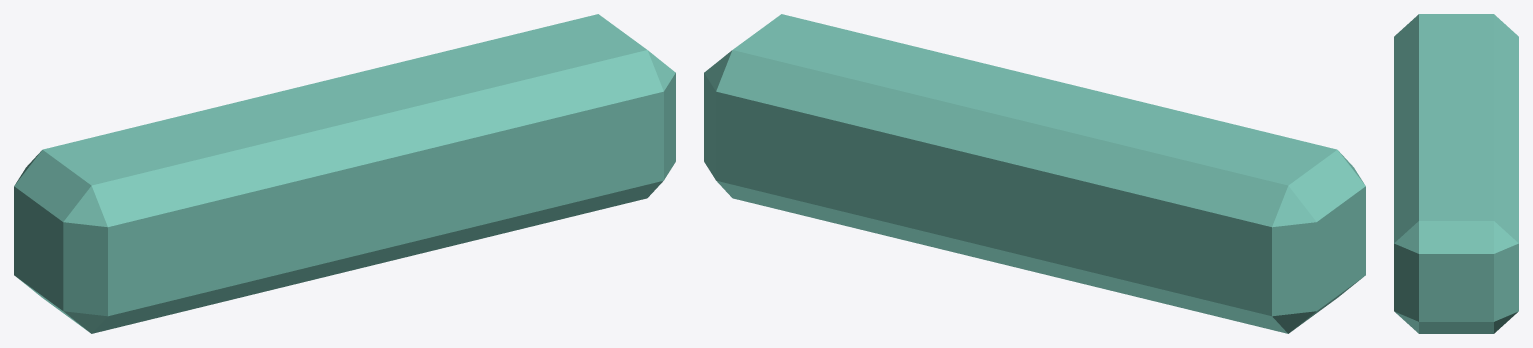
File: Paddle.fbx
3 renders of one model, left to right at view 1: azimuth 30°, elevation 25°; view 2: azimuth 150°, elevation 25°; view 3: azimuth 270°, elevation 25°, orthographic. The views are drawn at different scales.
Visible parts, largest first — view 1: Paddle; view 2: Paddle; view 3: Paddle.
Boxes of the visible parts, x1,y1,x2,y2 form: Paddle: (14,14,675,333); Paddle: (704,14,1365,333); Paddle: (1394,14,1518,333).
Bounding box in the file's own units: 8.37 × 1.94 × 1.94.
